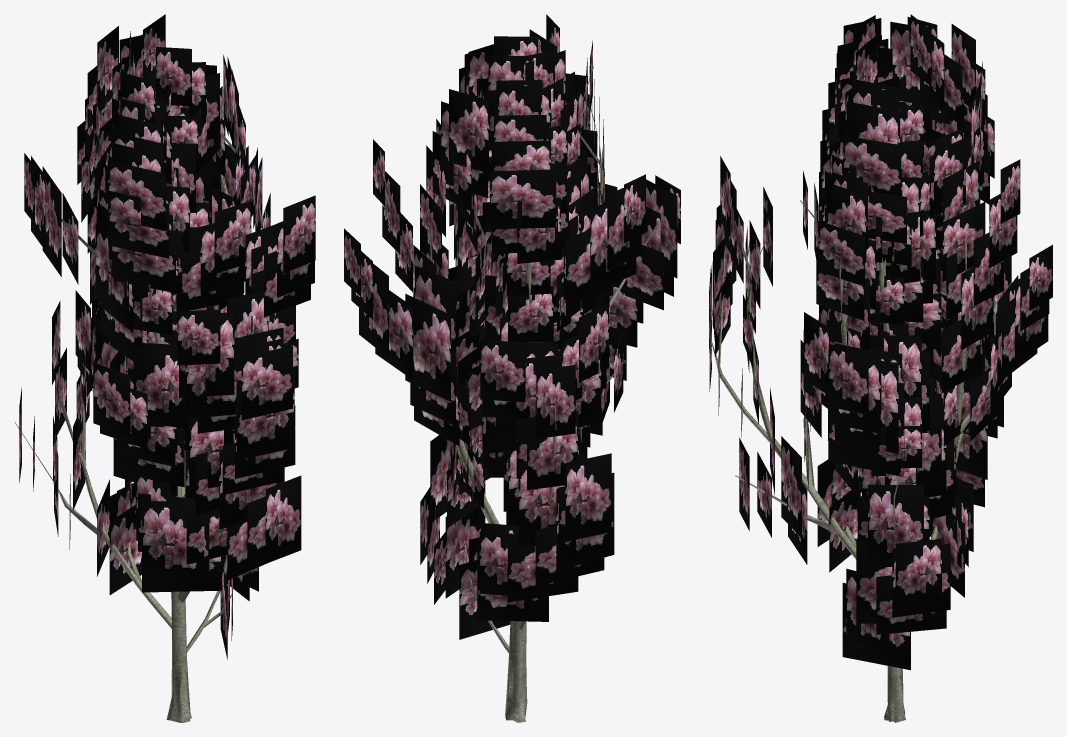
The model's file is young-airy-s97.glb.
The picture shows the model from 3 angles, left to right: view 1: azimuth 30°, elevation 25°; view 2: azimuth 150°, elevation 25°; view 3: azimuth 270°, elevation 25°; orthographic projection.
Visible parts, largest first — view 1: BlossomPlantFactory_young-airy-s97; view 2: BlossomPlantFactory_young-airy-s97; view 3: BlossomPlantFactory_young-airy-s97.
Part boxes in pixels (left/top/right/bottom): BlossomPlantFactory_young-airy-s97: left=14, top=14, right=315, bottom=722; BlossomPlantFactory_young-airy-s97: left=344, top=14, right=680, bottom=722; BlossomPlantFactory_young-airy-s97: left=709, top=14, right=1052, bottom=722.
Bounding box in the file's own units: 2.6 × 7.1 × 3.21.
Materials: 2 (2 with a texture image).
